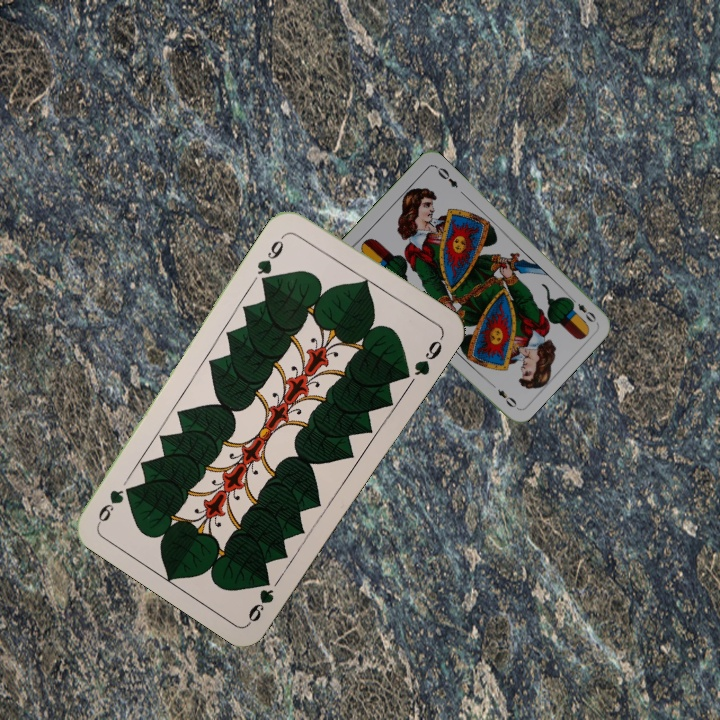EO: (566, 293, 599, 325)
G9: (252, 229, 290, 285), (244, 572, 277, 625)
